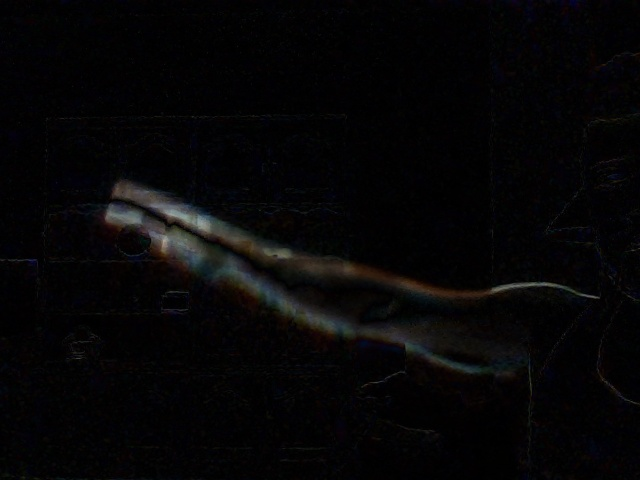hand_pa: (105, 169, 234, 281)
